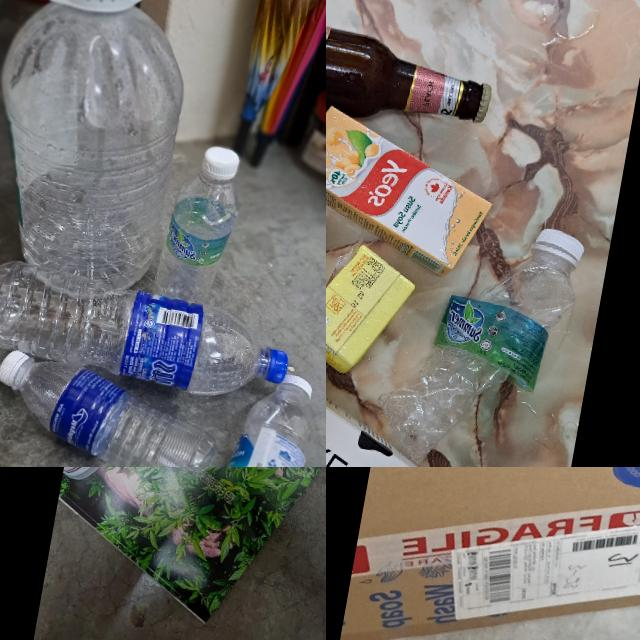caixinha: (326, 289, 493, 467), (326, 99, 501, 267), (326, 241, 420, 392)
garrafa de vidro: (326, 0, 501, 131)
garrafa plástica: (0, 0, 193, 301), (373, 241, 585, 467), (0, 255, 273, 405), (5, 352, 223, 467), (146, 172, 242, 326), (184, 380, 322, 467)
papel: (41, 467, 326, 636)
papelão: (339, 467, 640, 640)
tampa plástica: (530, 228, 584, 264), (202, 142, 240, 186), (261, 346, 295, 385), (0, 348, 30, 391), (282, 374, 316, 396)
